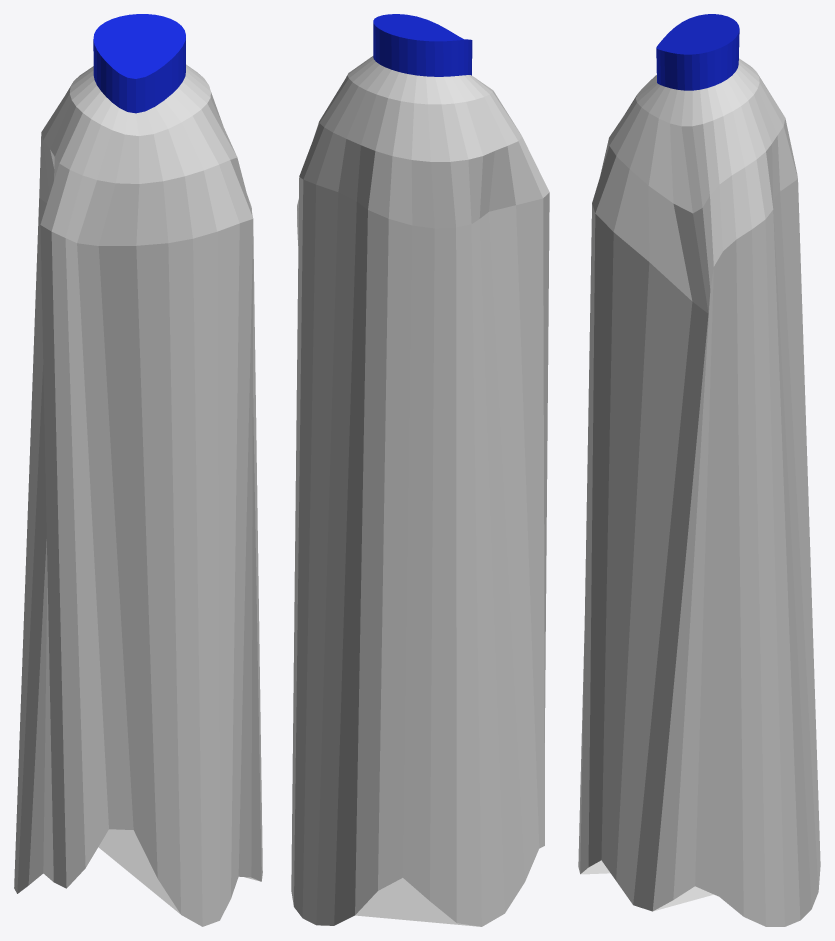
File: botol;.fbx
3 renders of one model, left to right at view 1: azimuth 30°, elevation 25°; view 2: azimuth 150°, elevation 25°; view 3: azimuth 270°, elevation 25°, orthographic.
Visible parts, largest first — view 1: Cylinder; view 2: Cylinder; view 3: Cylinder.
Part boxes in pixels (x1,y1,x2,y2): Cylinder: (14,14,262,926); Cylinder: (291,14,549,926); Cylinder: (578,14,820,926).
Bounding box in the file's own units: 36.25 × 132 × 33.7.
